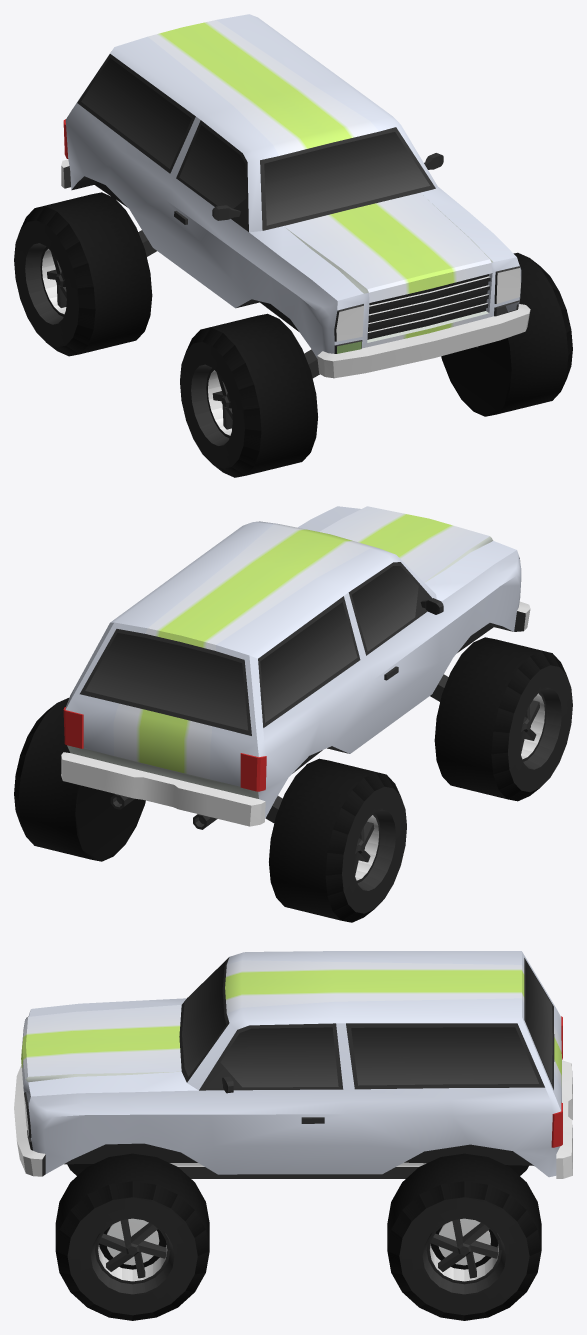
Rendered from Car_33.fbx.
3 views of the same model, one above another, from view 1: azimuth 30°, elevation 25°; view 2: azimuth 150°, elevation 25°; view 3: azimuth 270°, elevation 25° (orthographic).
Parts seen in each view (by area): view 1: Car_33, Car_33_Tire.001, Car_33_Tire.002, Car_33_Tire.004; view 2: Car_33, Car_33_Tire.002, Car_33_Tire.001, Car_33_Tire.003; view 3: Car_33, Car_33_Tire.004, Car_33_Tire.003.
Part boxes in pixels (bbox=[...]): Car_33: bbox=[61, 14, 530, 378]; Car_33_Tire.001: bbox=[14, 192, 152, 356]; Car_33_Tire.002: bbox=[180, 313, 317, 477]; Car_33_Tire.004: bbox=[441, 252, 572, 416]; Car_33: bbox=[61, 506, 530, 829]; Car_33_Tire.002: bbox=[434, 637, 572, 801]; Car_33_Tire.001: bbox=[269, 758, 406, 922]; Car_33_Tire.003: bbox=[14, 698, 145, 861]; Car_33: bbox=[14, 951, 572, 1178]; Car_33_Tire.004: bbox=[55, 1153, 209, 1320]; Car_33_Tire.003: bbox=[387, 1153, 541, 1320].
Bounding box in the file's own units: 3.28 × 2.52 × 4.82.
